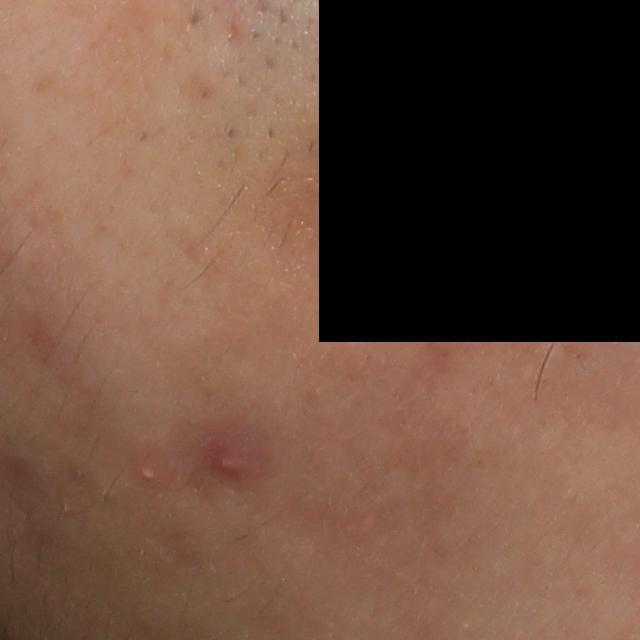papule: (209, 441, 251, 482)
pustule: (135, 454, 164, 488)
